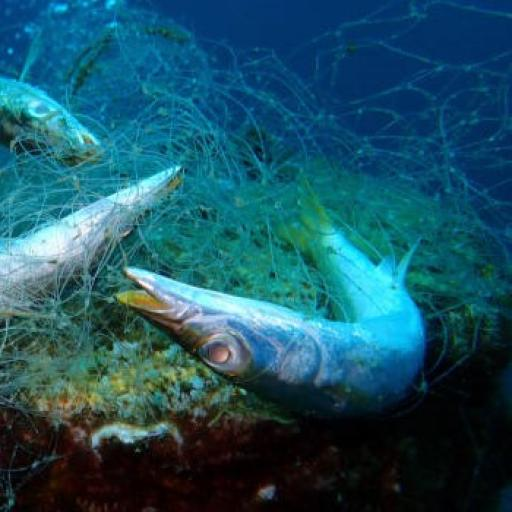net: (0, 2, 512, 412)
